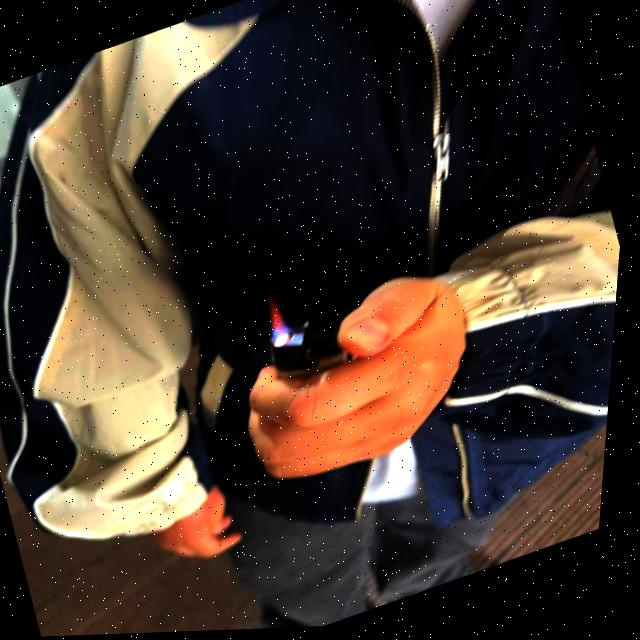Fire: (261, 293, 297, 354)
